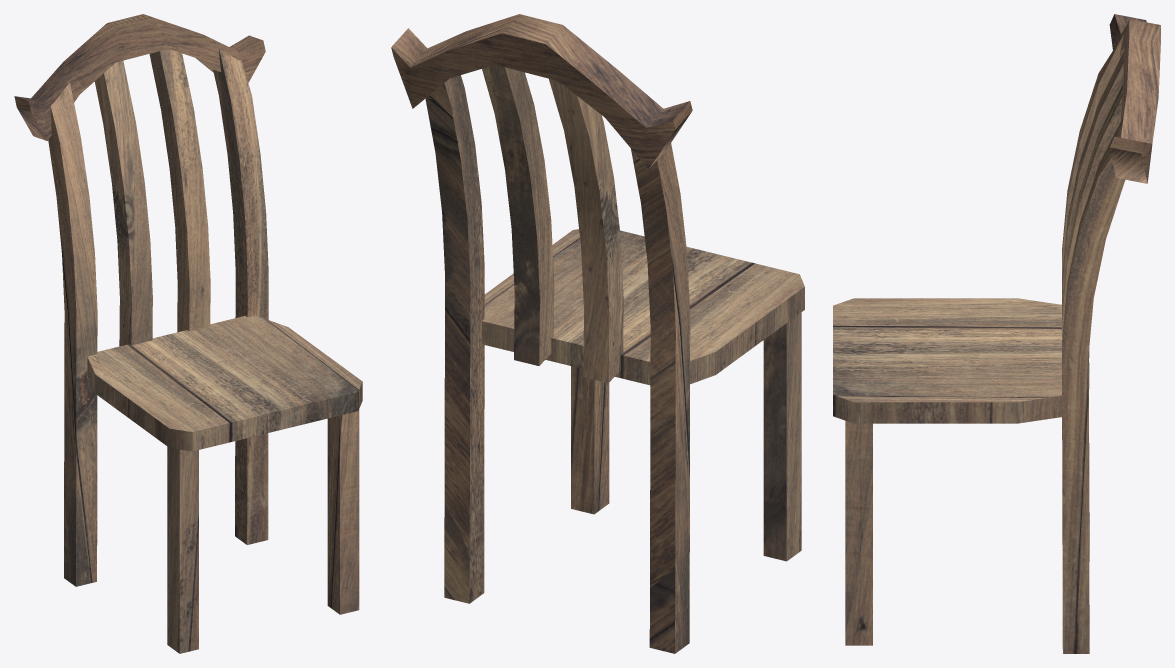
File: Chair_1.fbx
The picture shows the model from 3 angles, left to right: view 1: azimuth 30°, elevation 25°; view 2: azimuth 150°, elevation 25°; view 3: azimuth 270°, elevation 25°; orthographic projection. The views are drawn at different scales.
Parts seen in each view (by area): view 1: polySurface12.001; view 2: polySurface12.001; view 3: polySurface12.001.
Boxes of the visible parts, x1,y1,x2,y2 form: polySurface12.001: (14, 14, 362, 653); polySurface12.001: (391, 14, 804, 653); polySurface12.001: (833, 14, 1160, 653).
Size of the model in its own units: 137 by 289 by 150.
